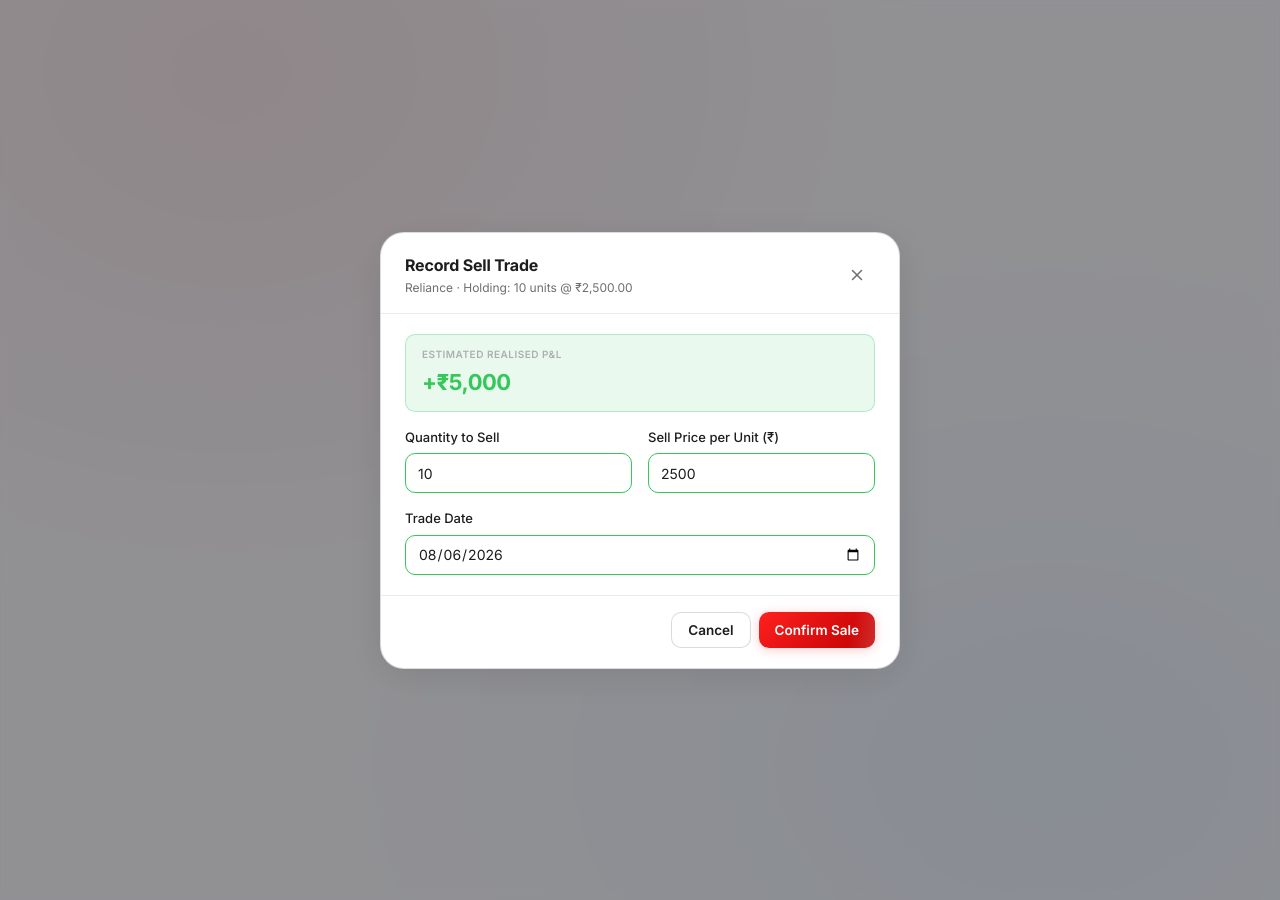
SellForm — validation › shows error when quantity exceeds holding
This screenshot has width=1280, height=900.
Replace the text in the number field showing "10" below "Quantity to Sell" with "99": (518, 473) x1=405 y1=453 x2=632 y2=493
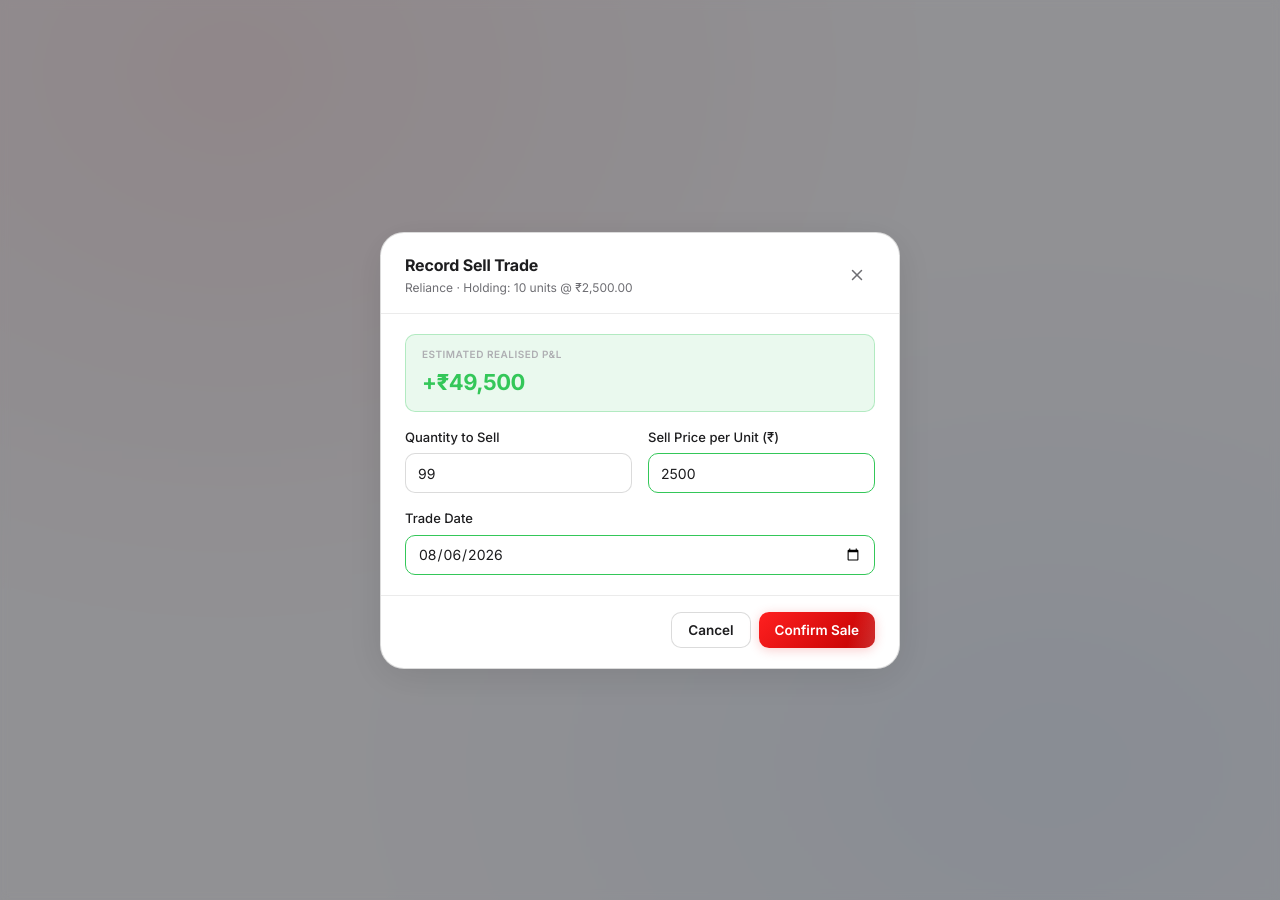
Click the button "Confirm Sale": (817, 630) x1=759 y1=612 x2=875 y2=648
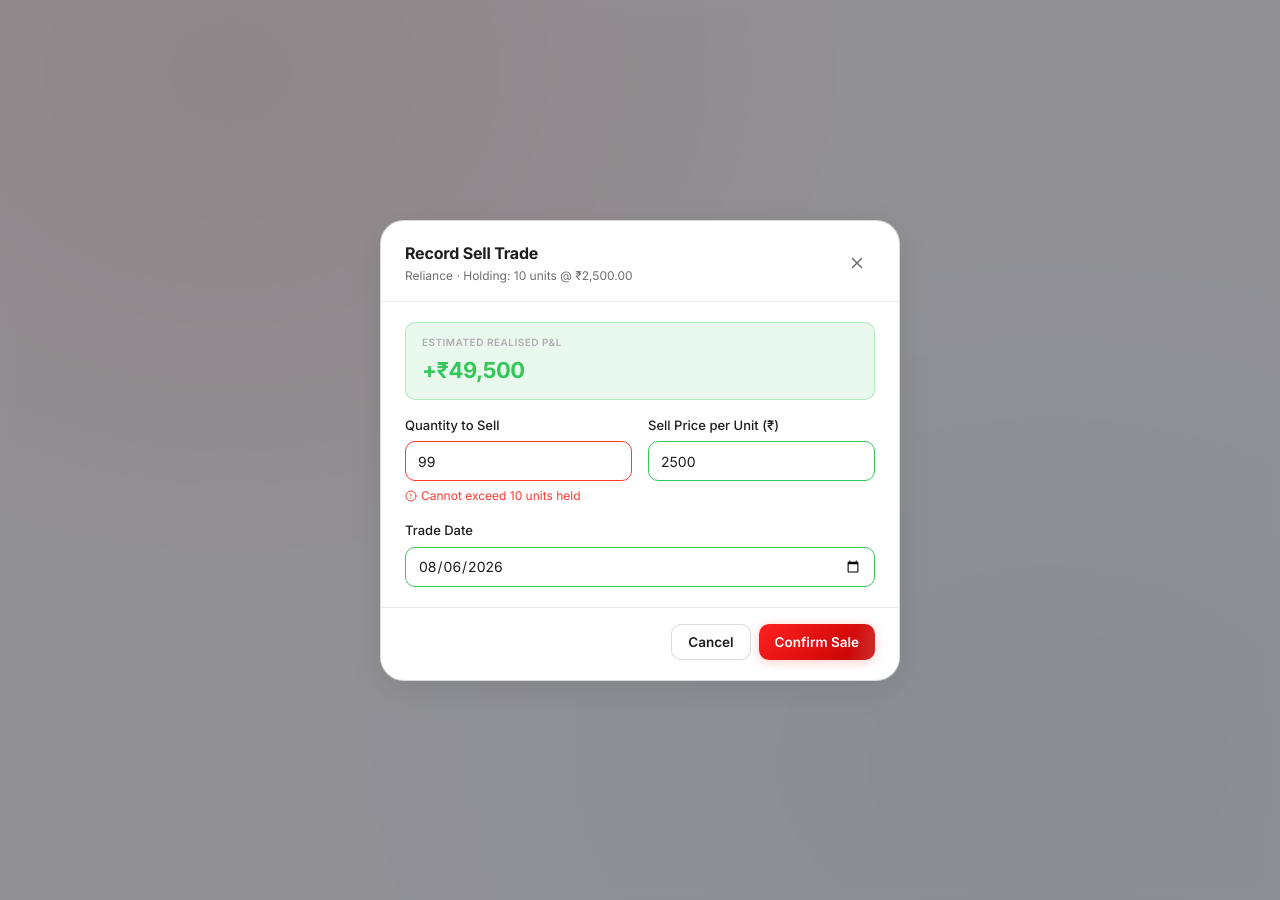
expect the text "Cannot exceed 10 units held" is shown: met, box x1=405 y1=488 x2=580 y2=503
